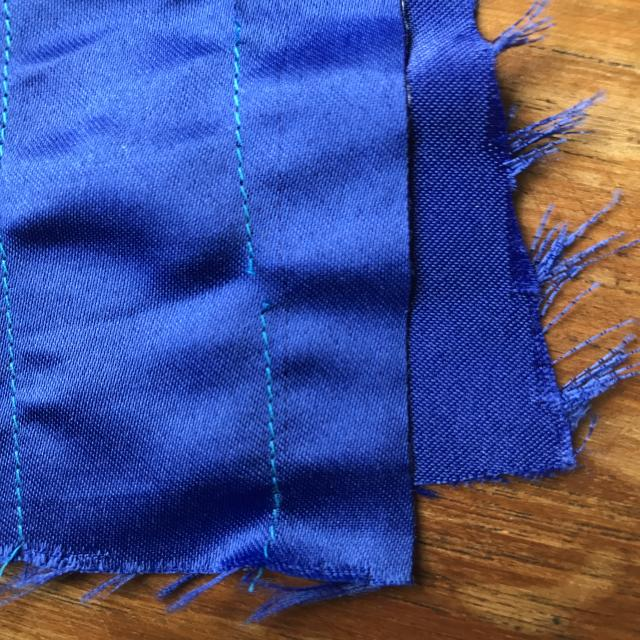broken: (203, 232, 309, 334)
